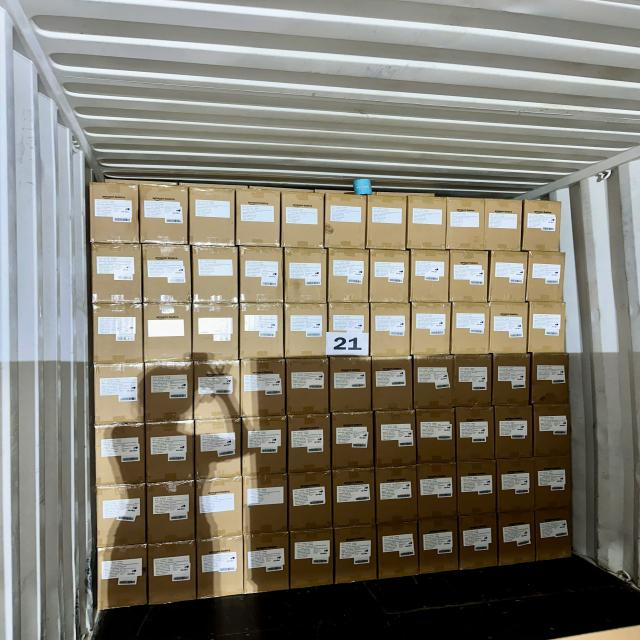Carton: (97, 546, 149, 609), (96, 426, 148, 488), (96, 485, 147, 548), (91, 244, 142, 306), (95, 362, 146, 423), (92, 182, 142, 244), (143, 362, 193, 424), (138, 182, 187, 245), (196, 476, 244, 540), (150, 480, 198, 544), (142, 245, 192, 306), (197, 536, 244, 600), (148, 541, 195, 605), (148, 421, 197, 482), (189, 183, 236, 246), (92, 307, 142, 366), (142, 305, 191, 364), (194, 417, 240, 479), (192, 359, 240, 418), (245, 534, 290, 596), (192, 306, 240, 364), (238, 186, 283, 247), (193, 247, 240, 305), (238, 358, 284, 417), (244, 415, 289, 475), (246, 475, 290, 536), (288, 472, 332, 532), (237, 248, 282, 306), (332, 469, 376, 528), (237, 306, 283, 362), (286, 413, 330, 471), (335, 526, 378, 585), (287, 359, 330, 418), (290, 531, 332, 591), (375, 467, 418, 525), (282, 188, 324, 247), (332, 413, 374, 472), (326, 190, 368, 248), (327, 303, 371, 358), (283, 250, 326, 306), (377, 410, 418, 468), (380, 524, 420, 583), (284, 304, 326, 360), (330, 358, 372, 413), (416, 408, 457, 464), (366, 192, 406, 249), (369, 250, 409, 306), (416, 463, 456, 519), (330, 250, 370, 306), (458, 461, 498, 517), (368, 305, 409, 359), (372, 357, 412, 412), (418, 522, 458, 577), (414, 354, 455, 407), (458, 406, 496, 463), (410, 302, 450, 356), (448, 251, 488, 305), (411, 251, 450, 305), (409, 194, 447, 249), (496, 459, 534, 514), (446, 197, 485, 250), (450, 302, 489, 355), (496, 405, 534, 459), (462, 517, 499, 572), (485, 198, 522, 252), (536, 458, 573, 512), (530, 352, 568, 404), (527, 302, 564, 355), (490, 252, 527, 304), (490, 305, 527, 357), (498, 514, 534, 567), (522, 199, 558, 252), (538, 508, 574, 561), (493, 352, 530, 403), (458, 353, 494, 405), (530, 252, 566, 304), (536, 404, 572, 456)
